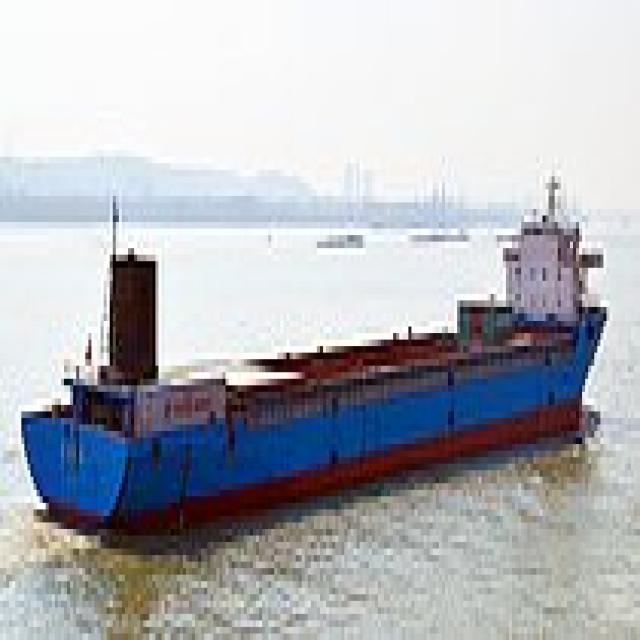Cargo: (15, 164, 610, 536)
